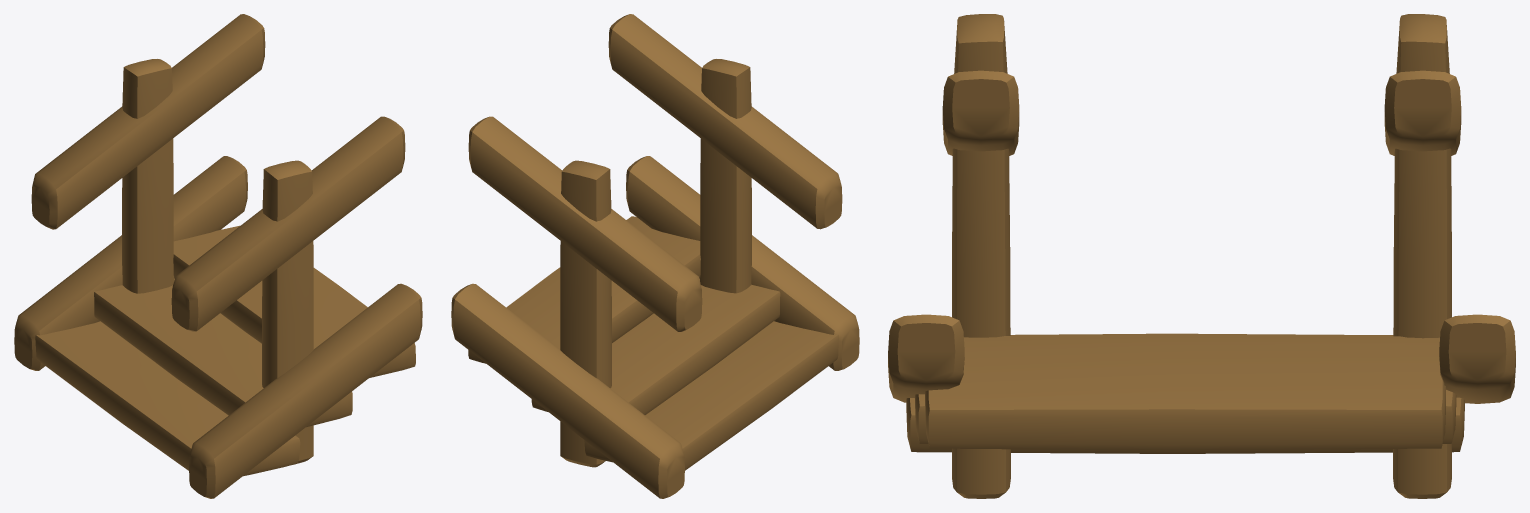
The model's file is Stairs_Small.glb.
The picture shows the model from 3 angles, left to right: view 1: azimuth 30°, elevation 25°; view 2: azimuth 150°, elevation 25°; view 3: azimuth 270°, elevation 25°; orthographic projection. The views are drawn at different scales.
Parts seen in each view (by area): view 1: Stairs_Small; view 2: Stairs_Small; view 3: Stairs_Small.
Part boxes in pixels (x1=…): Stairs_Small: x1=14, y1=14, x2=422, y2=498; Stairs_Small: x1=451, y1=14, x2=859, y2=498; Stairs_Small: x1=888, y1=14, x2=1515, y2=498.
Size of the model in its own units: 1.64 by 2.23 by 2.56.
